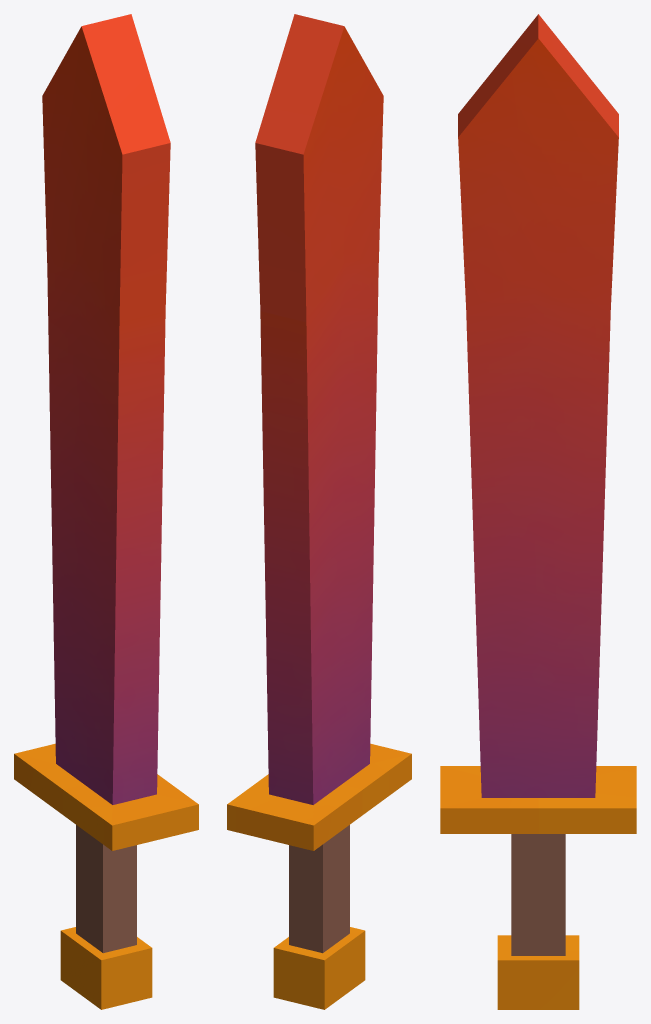
The model's file is sword2.fbx.
3 views of the same model, side by side, from view 1: azimuth 30°, elevation 25°; view 2: azimuth 150°, elevation 25°; view 3: azimuth 270°, elevation 25° (orthographic).
Parts seen in each view (by area): view 1: Sword2; view 2: Sword2; view 3: Sword2.
Part boxes in pixels (left/top/right/bottom): Sword2: left=14, top=14, right=198, bottom=1009; Sword2: left=227, top=14, right=411, bottom=1009; Sword2: left=440, top=14, right=636, bottom=1009.
Size of the model in its own units: 4.62 by 49.34 by 9.05.
